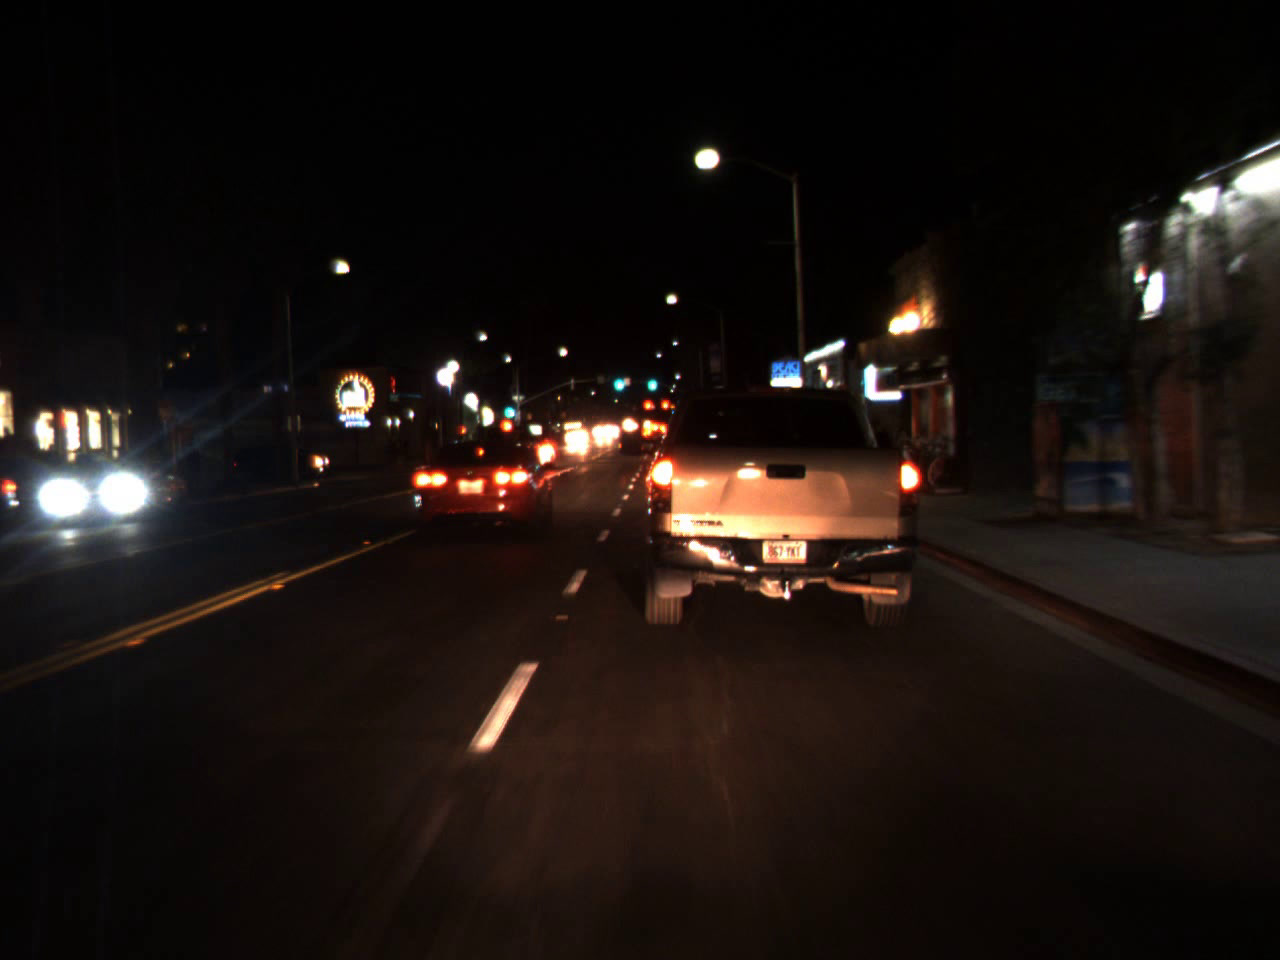go: (610, 365, 626, 395), (643, 367, 659, 394), (501, 396, 515, 419)
